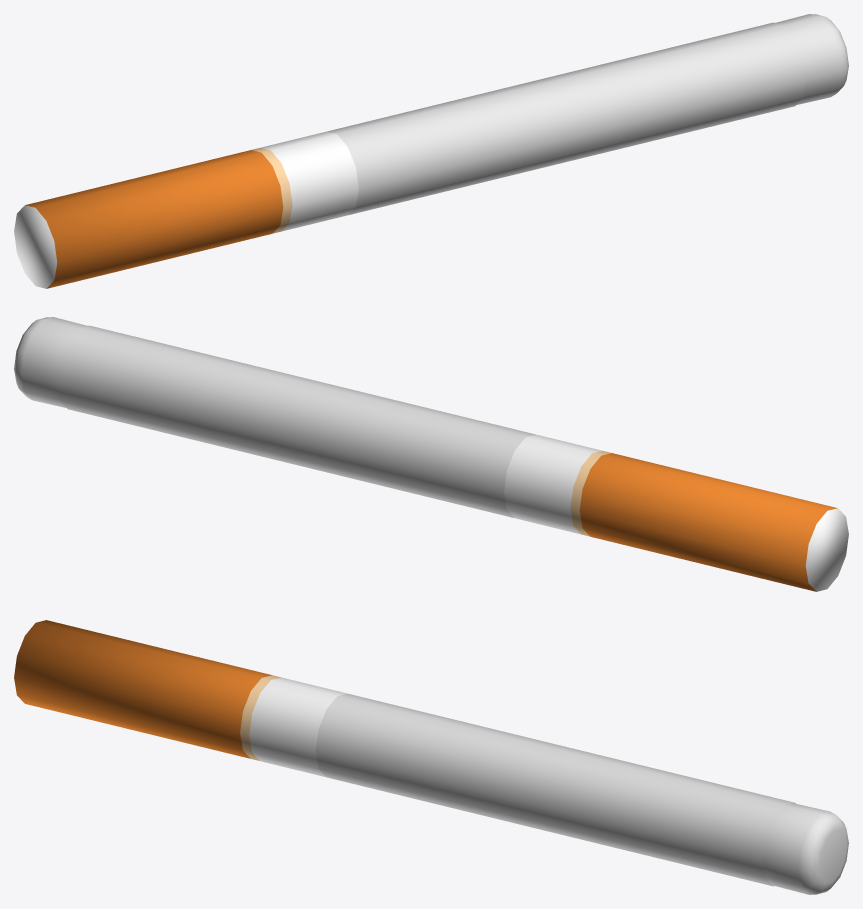
File: cigarro.fbx
3 views of the same model, one above another, from view 1: azimuth 30°, elevation 25°; view 2: azimuth 150°, elevation 25°; view 3: azimuth 330°, elevation 25° (orthographic).
Parts seen in each view (by area): view 1: Cylinder, Cylinder.001; view 2: Cylinder, Cylinder.001; view 3: Cylinder, Cylinder.001.
Boxes of the visible parts, bbox=[...] form: Cylinder: bbox=[14, 22, 805, 288]; Cylinder.001: bbox=[775, 14, 848, 104]; Cylinder: bbox=[57, 325, 848, 591]; Cylinder.001: bbox=[14, 317, 87, 407]; Cylinder: bbox=[14, 620, 795, 886]; Cylinder.001: bbox=[762, 803, 848, 894].
Size of the model in its own units: 351 by 33 by 33.
